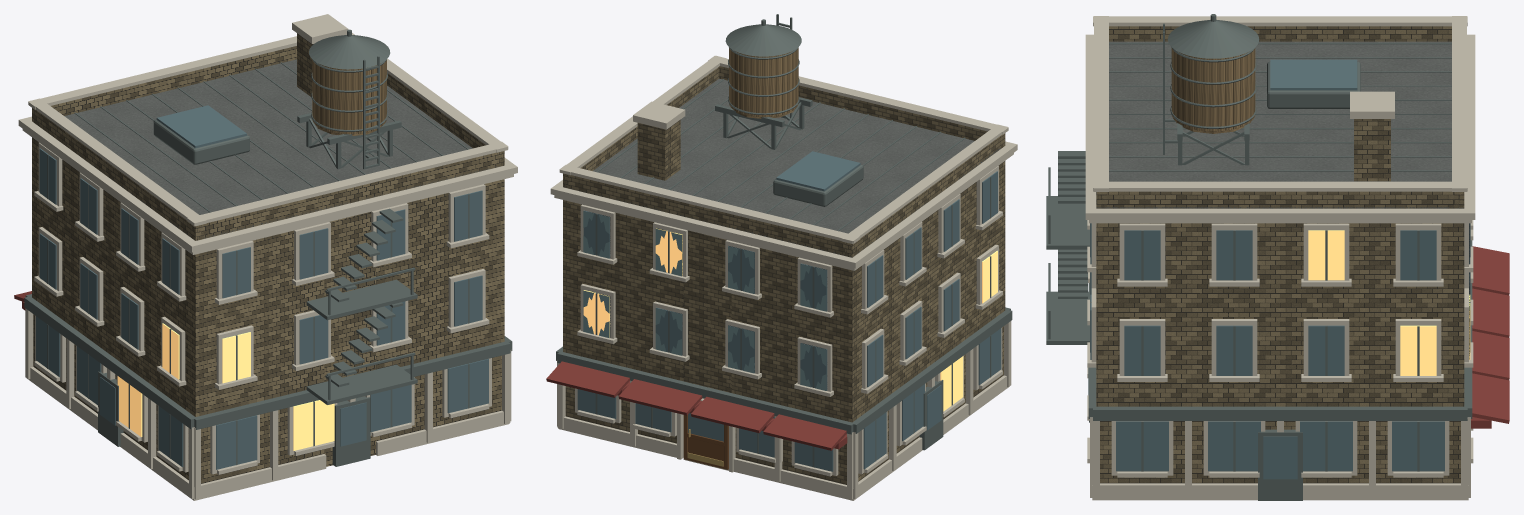
Rendered from shop.glb.
3 views of the same model, side by side, from view 1: azimuth 30°, elevation 25°; view 2: azimuth 150°, elevation 25°; view 3: azimuth 270°, elevation 25° (orthographic). The views are drawn at different scales.
Visible parts, largest first — view 1: masonry wing, foundation wing, roof tar seam, window pane, roof, window pane.001, tank floor; view 2: masonry wing, foundation wing, roof, roof tar seam, window pane, canvas awning, window pane.016, window glass remnant, tank floor, window pane.001, window pane.019, door bottom rail (+1 smaller); view 3: masonry wing, foundation wing, roof, roof tar seam, window pane, canvas awning, tank floor, window pane.001.
Part boxes in pixels (left/top/right/bottom): masonry wing: left=32, top=33, right=504, bottom=483; foundation wing: left=18, top=14, right=517, bottom=500; roof tar seam: left=24, top=29, right=512, bottom=466; window pane: left=36, top=105, right=488, bottom=469; roof: left=40, top=59, right=500, bottom=240; window pane.001: left=117, top=323, right=334, bottom=450; tank floor: left=312, top=60, right=386, bottom=135; masonry wing: left=563, top=66, right=1005, bottom=484; foundation wing: left=550, top=55, right=1017, bottom=500; roof: left=563, top=78, right=1005, bottom=257; roof tar seam: left=556, top=14, right=1012, bottom=467; window pane: left=577, top=151, right=1001, bottom=471; canvas awning: left=546, top=361, right=847, bottom=450; window pane.016: left=583, top=210, right=827, bottom=390; window glass remnant: left=583, top=211, right=826, bottom=390; tank floor: left=729, top=48, right=798, bottom=118; window pane.001: left=940, top=250, right=997, bottom=411; window pane.019: left=583, top=228, right=682, bottom=337; door bottom rail: left=683, top=415, right=728, bottom=469; masonry wing: left=1096, top=26, right=1464, bottom=483; foundation wing: left=1085, top=16, right=1475, bottom=500; roof: left=1096, top=41, right=1463, bottom=208; roof tar seam: left=1046, top=14, right=1472, bottom=500; window pane: left=1088, top=59, right=1444, bottom=479; canvas awning: left=1471, top=246, right=1509, bottom=428; tank floor: left=1171, top=48, right=1255, bottom=133; window pane.001: left=1308, top=230, right=1436, bottom=375.
Size of the model in its own units: 12.65 by 14.16 by 13.85.
Materials: 12 (3 with a texture image).
